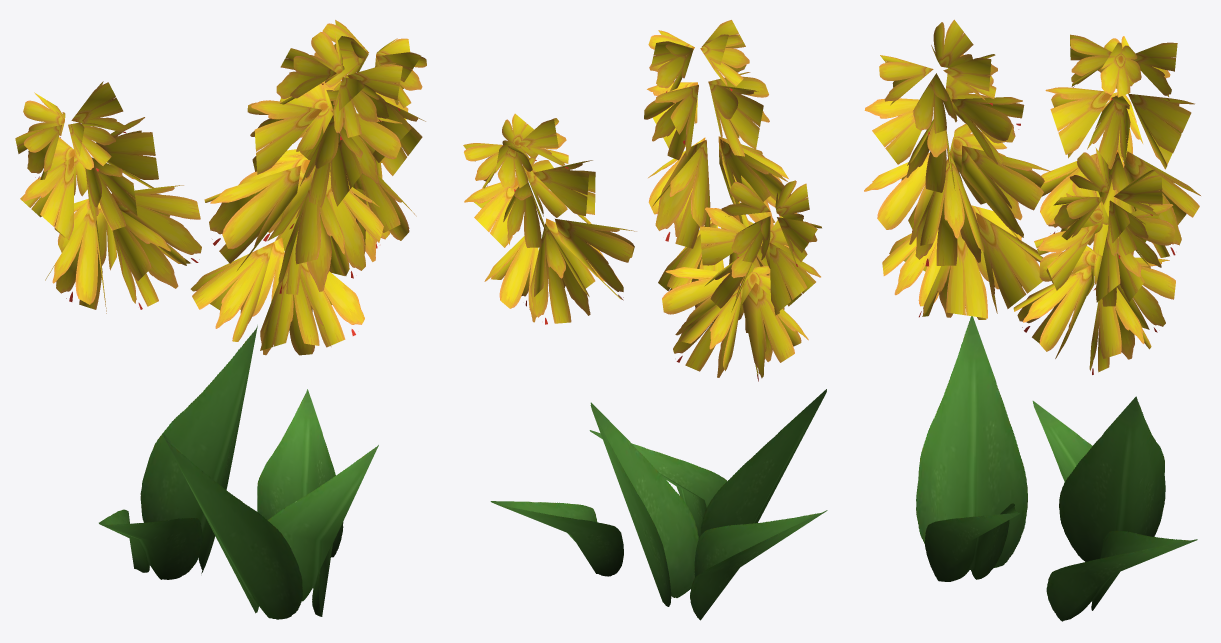
The model's file is flower_4_group.glb.
3 views of the same model, side by side, from view 1: azimuth 30°, elevation 25°; view 2: azimuth 150°, elevation 25°; view 3: azimuth 270°, elevation 25° (orthographic). The views are drawn at different scales.
Visible parts, largest first — view 1: Flower_4_Group; view 2: Flower_4_Group; view 3: Flower_4_Group.
Boxes of the visible parts, left/top/right/bottom form: Flower_4_Group: left=15, top=20, right=426, bottom=619; Flower_4_Group: left=463, top=20, right=827, bottom=620; Flower_4_Group: left=864, top=19, right=1200, bottom=621.
Bounding box in the file's own units: 1.76 × 2.49 × 1.37.
2 materials, 2 textured.
